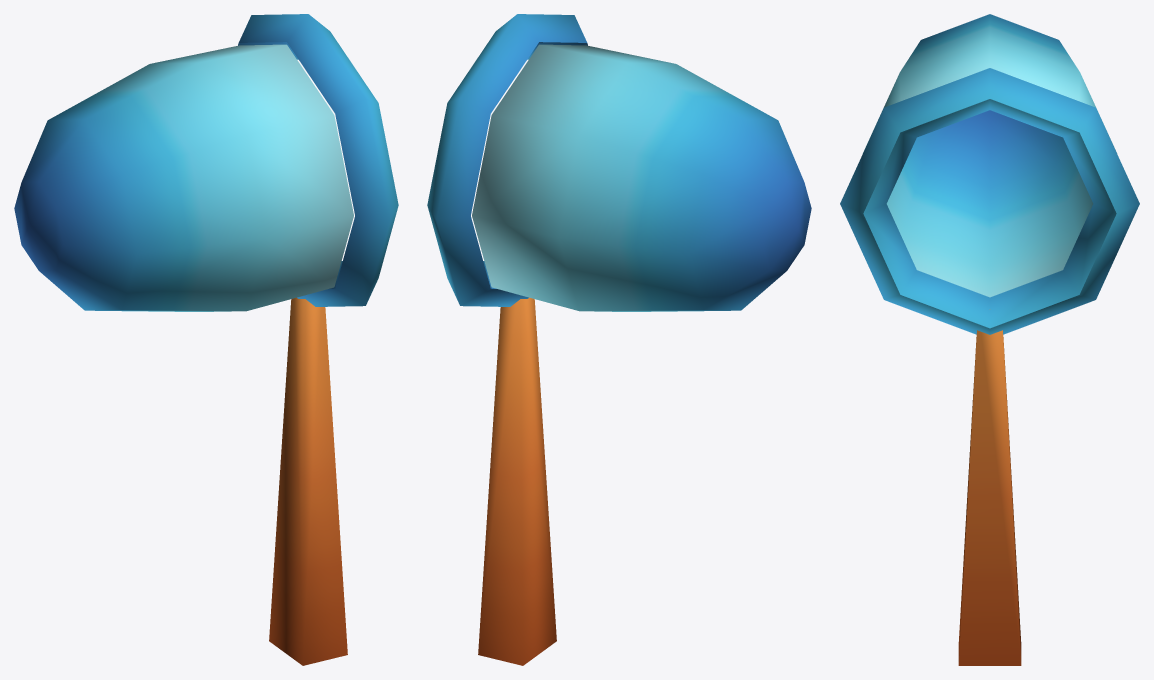
File: SM_Net.fbx
3 renders of one model, left to right at view 1: azimuth 30°, elevation 25°; view 2: azimuth 150°, elevation 25°; view 3: azimuth 270°, elevation 25°, orthographic. The views are drawn at different scales.
Visible parts, largest first — view 1: SM_Net; view 2: SM_Net; view 3: SM_Net.
Boxes of the visible parts, x1,y1,x2,y2 form: SM_Net: (14, 14, 398, 665); SM_Net: (427, 14, 811, 665); SM_Net: (840, 14, 1139, 665).
Size of the model in its own units: 1.46 by 2.91 by 1.35.
